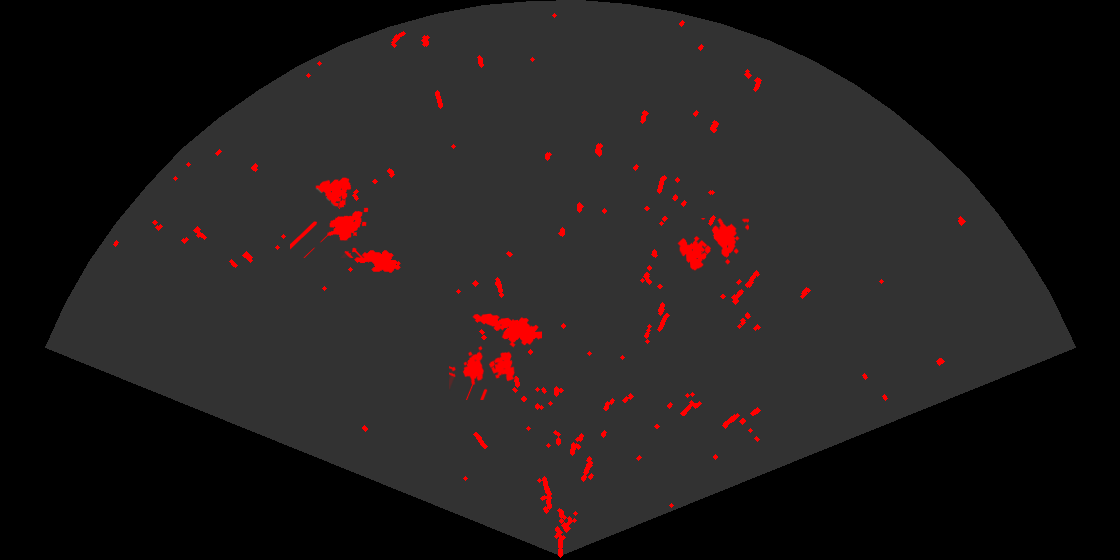AUV: (353, 249, 402, 274)
cage: (290, 176, 370, 258), (676, 218, 749, 272), (449, 344, 516, 400)
frogman: (471, 312, 542, 349)
